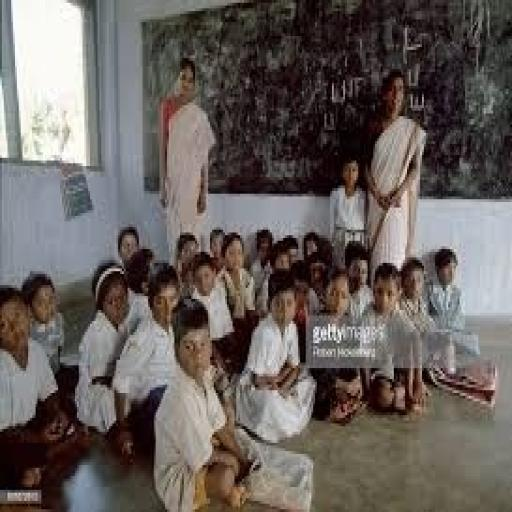sitting: (2, 222, 495, 506), (150, 296, 253, 509)
